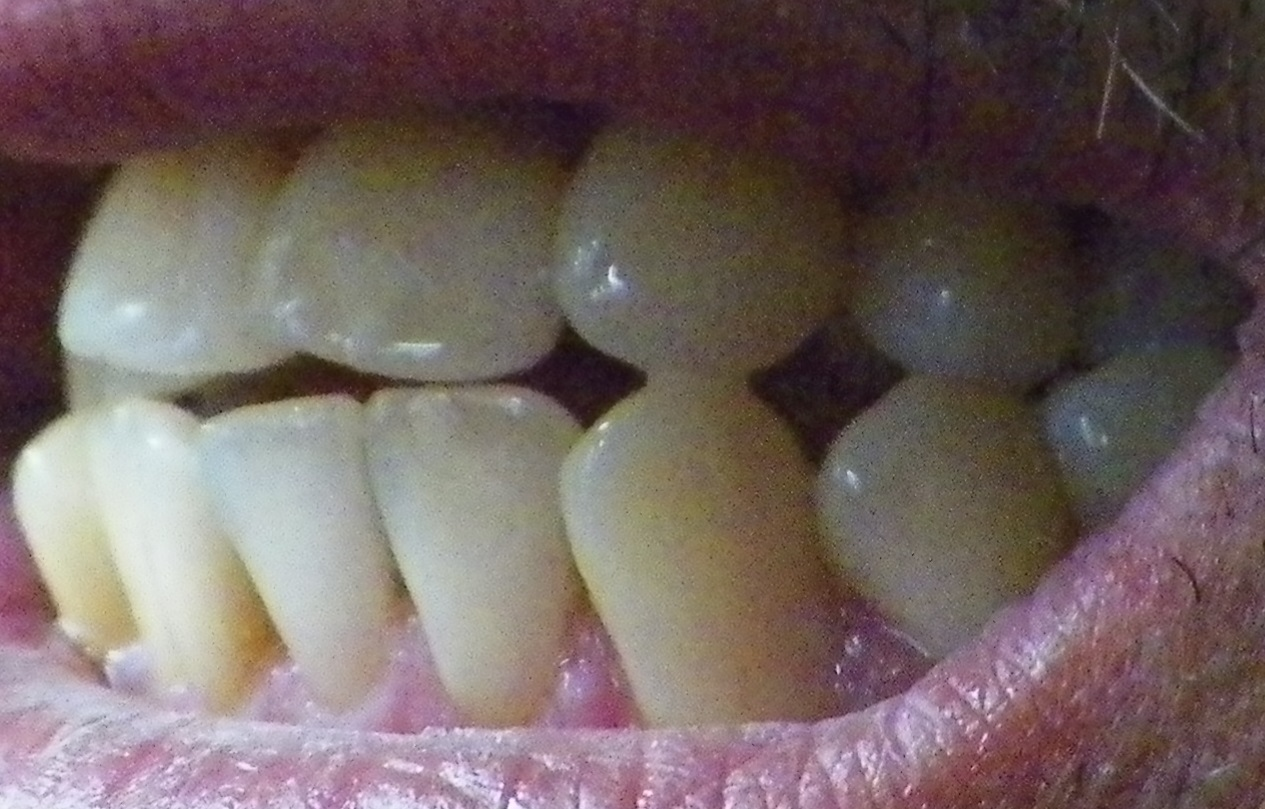boca: (16, 138, 1225, 704)
